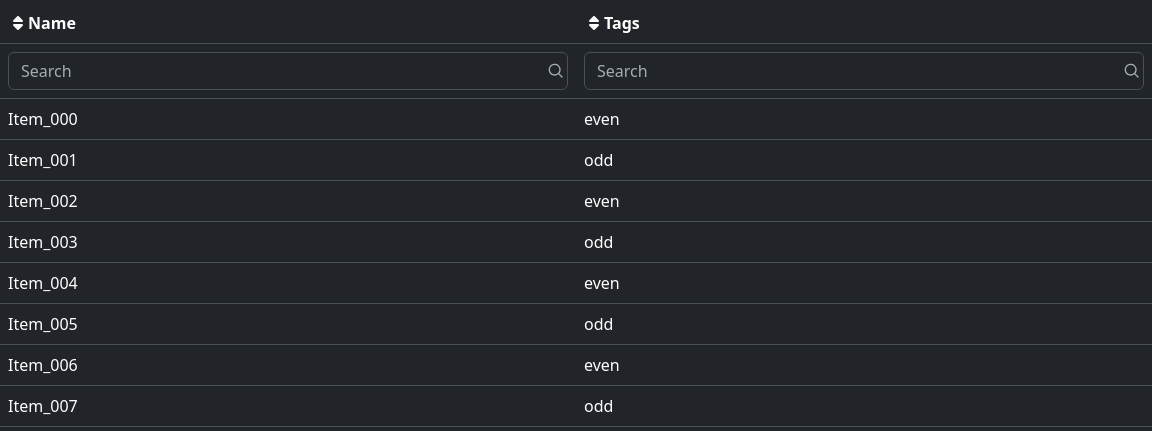
text filters › clears the text box and the filter straight away
(page scrolled)
Type "odd" into the 2nd field with placeholder "Search" at {"x": 864, "y": 71}, box [584,52,1144,90]
Wait 250 ms
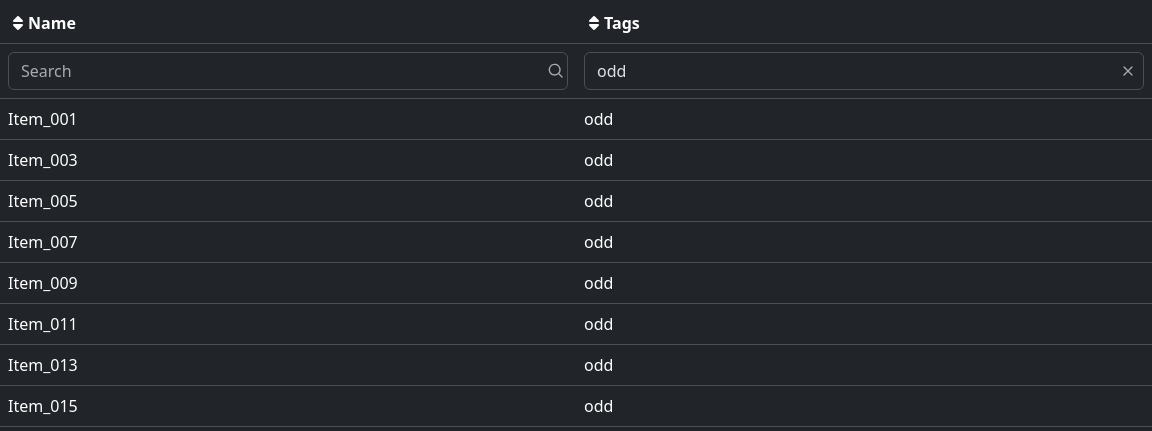
Click the 2nd button titled "Clear" at {"x": 1132, "y": 71}, box [1124,63,1140,79]
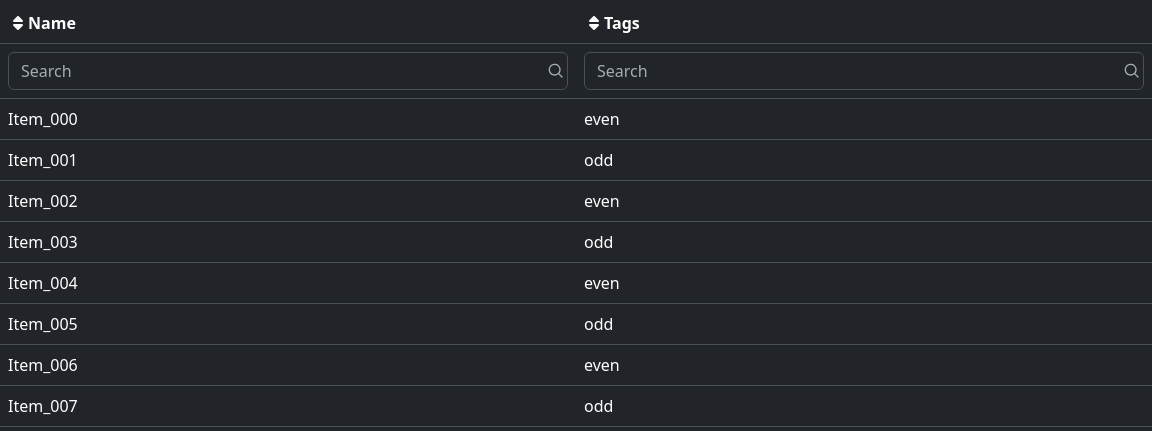
Expected: the 2nd field with placeholder "Search" is empty, [584,52,1144,90]
